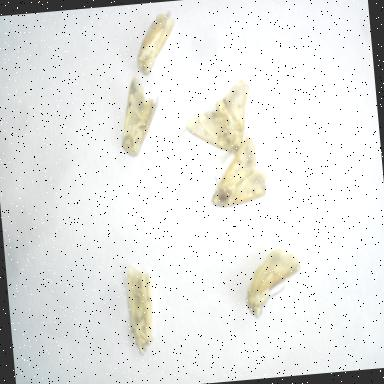abw: (168, 74, 260, 170), (203, 130, 274, 212), (239, 240, 308, 323), (113, 68, 166, 160), (120, 257, 162, 358), (131, 5, 188, 79)
